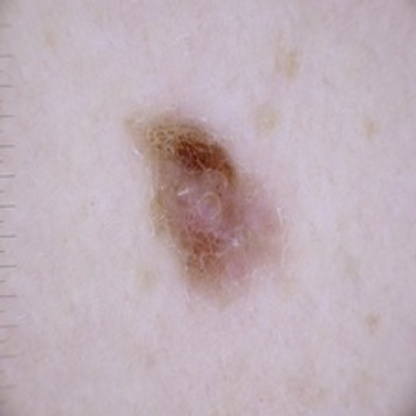malignant: (147, 125, 296, 280)
